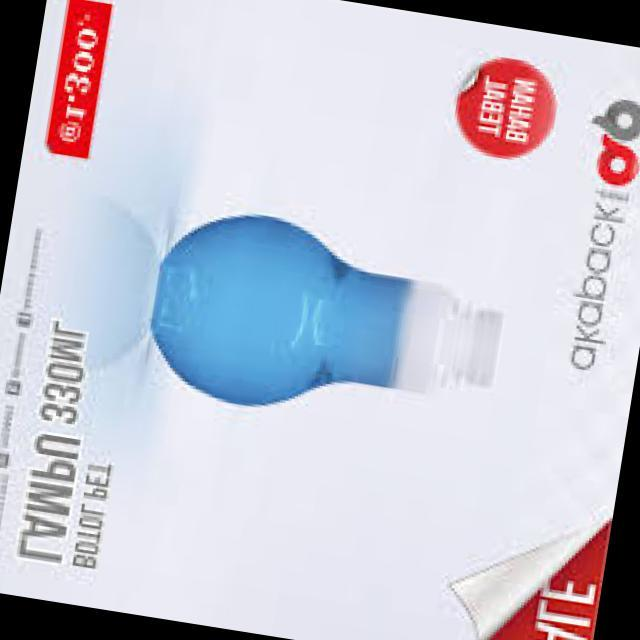good: (138, 164, 528, 461)
